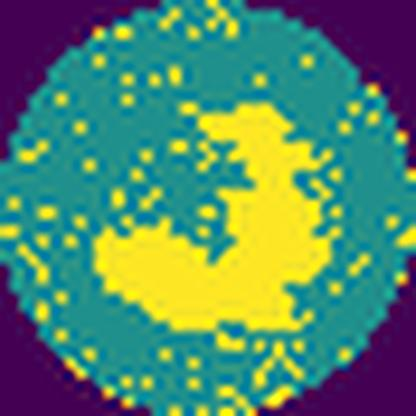Donut: (85, 94, 348, 356)
